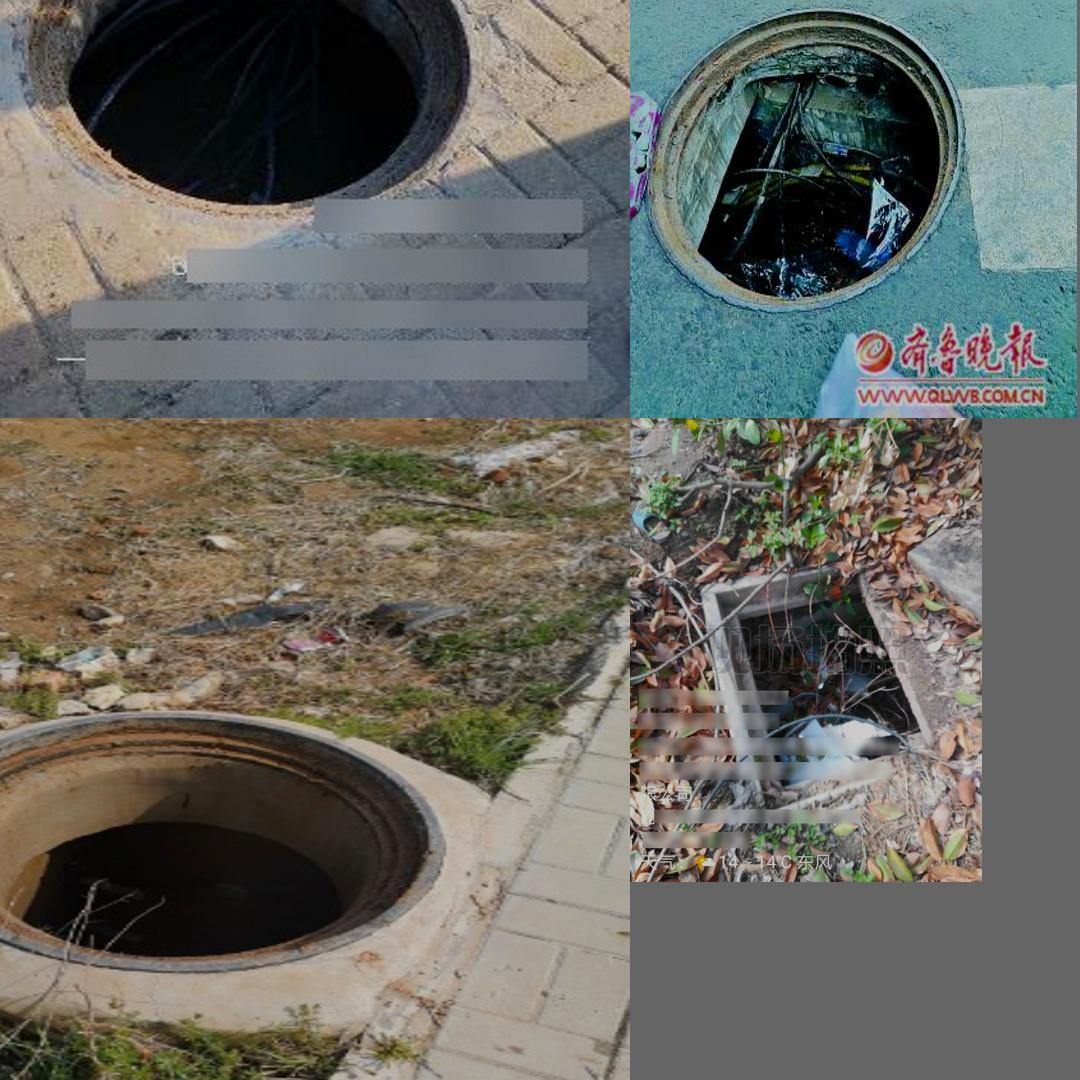lose: (0, 696, 455, 962), (21, 0, 472, 219), (651, 0, 969, 310), (699, 560, 937, 821)
